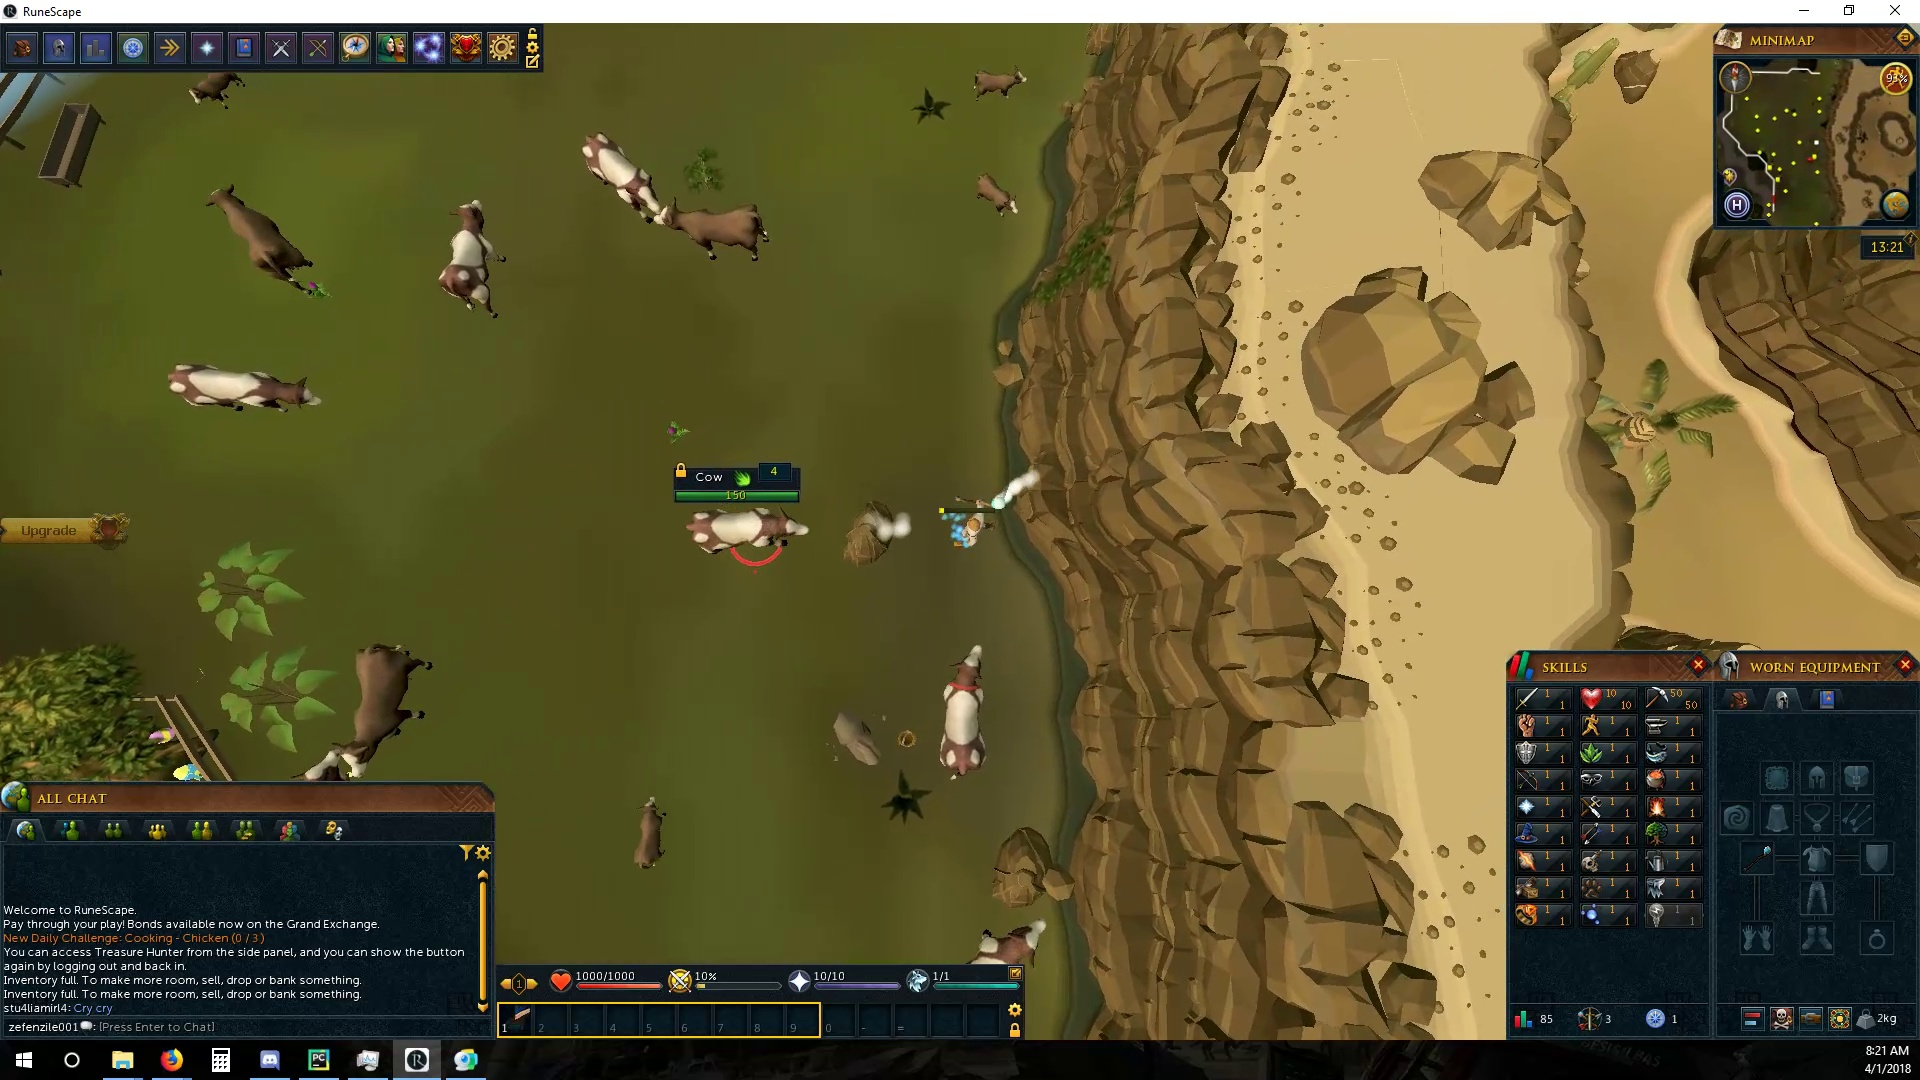calf: (626, 790, 670, 876), (185, 74, 253, 115), (971, 171, 1019, 219), (971, 69, 1039, 102)
cow: (203, 179, 316, 298), (338, 640, 434, 779), (436, 193, 512, 322), (160, 359, 327, 413), (650, 198, 775, 266), (934, 645, 996, 781), (580, 127, 665, 222), (682, 506, 814, 560)
